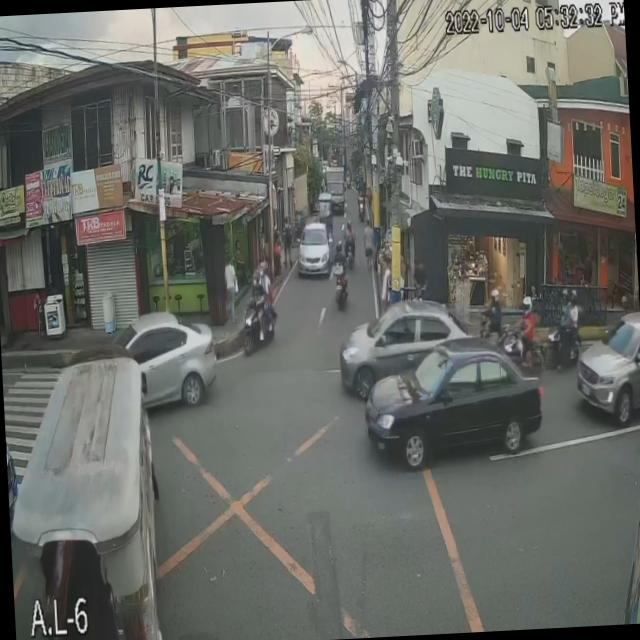full: (522, 295, 532, 316)
half: (489, 286, 500, 304)
